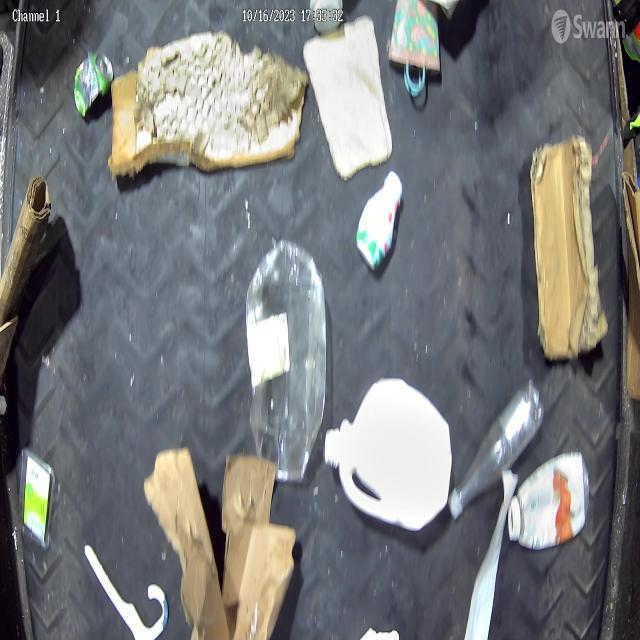can: (68, 48, 120, 128)
milk_jug: (324, 376, 456, 550)
plastic_bottle: (248, 236, 326, 496), (502, 446, 592, 552)
